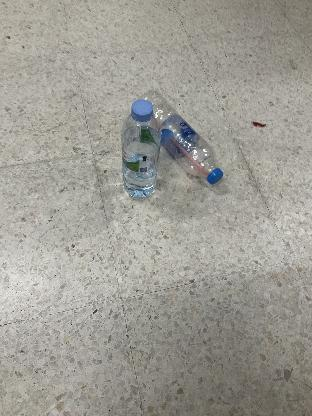Plastic Bottle: (136, 90, 222, 184), (120, 99, 162, 199)
